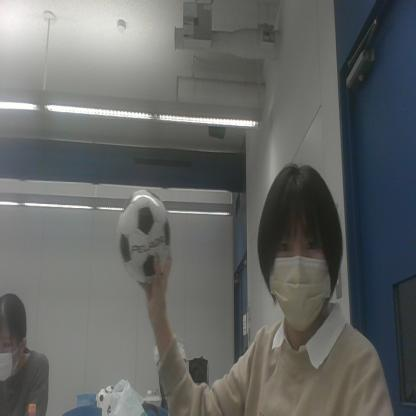ball: (118, 189, 171, 285)
